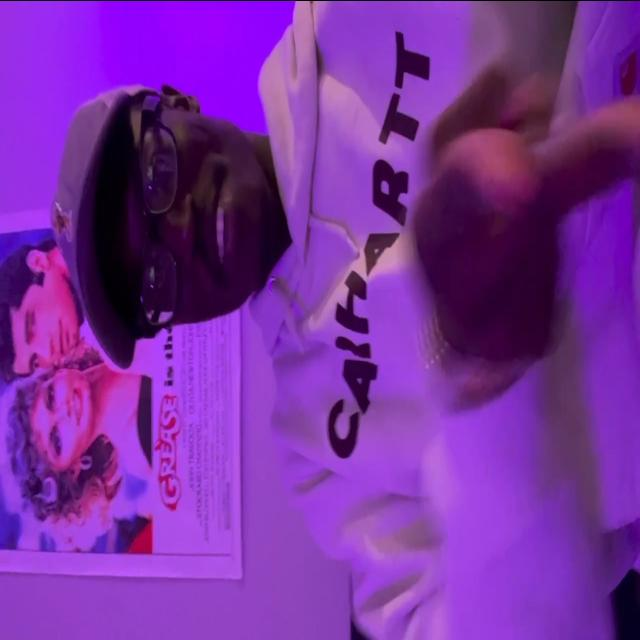Scissors: (406, 108, 640, 389)
